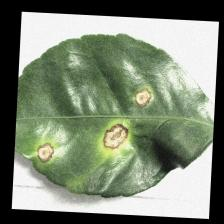canker: (28, 76, 156, 172)
